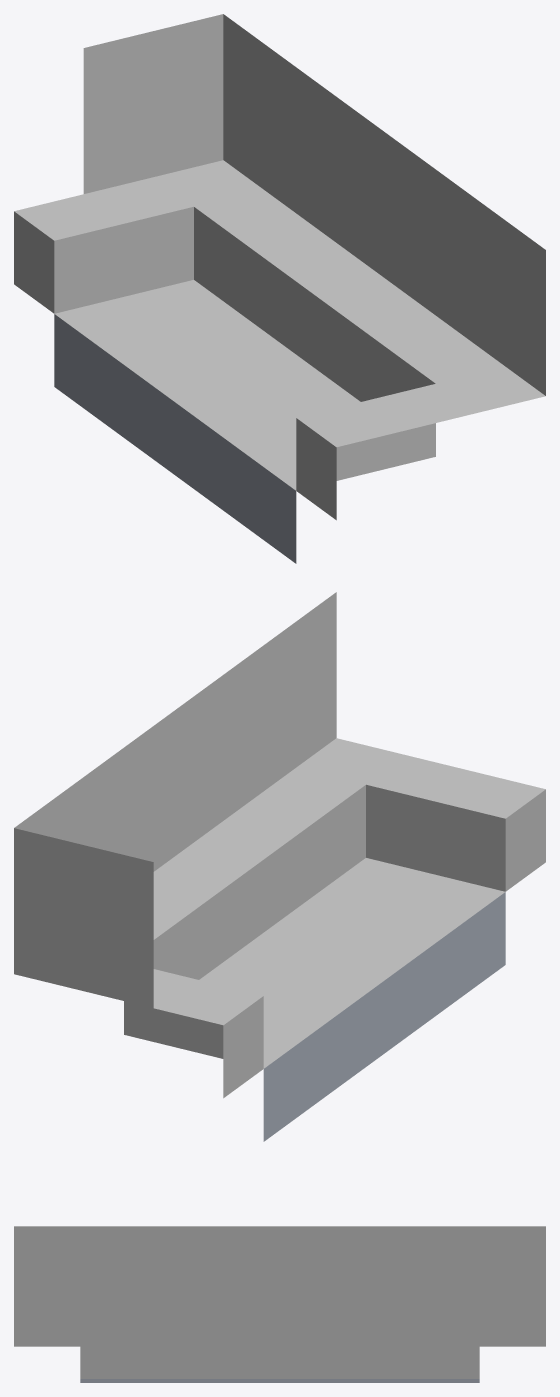
File: cell_19.obj
The picture shows the model from 3 angles, top to bottom: view 1: azimuth 30°, elevation 25°; view 2: azimuth 150°, elevation 25°; view 3: azimuth 270°, elevation 25°; orthographic projection. The views are drawn at different scales.
Size of the model in its own units: 0.375 by 0.5 by 1.
